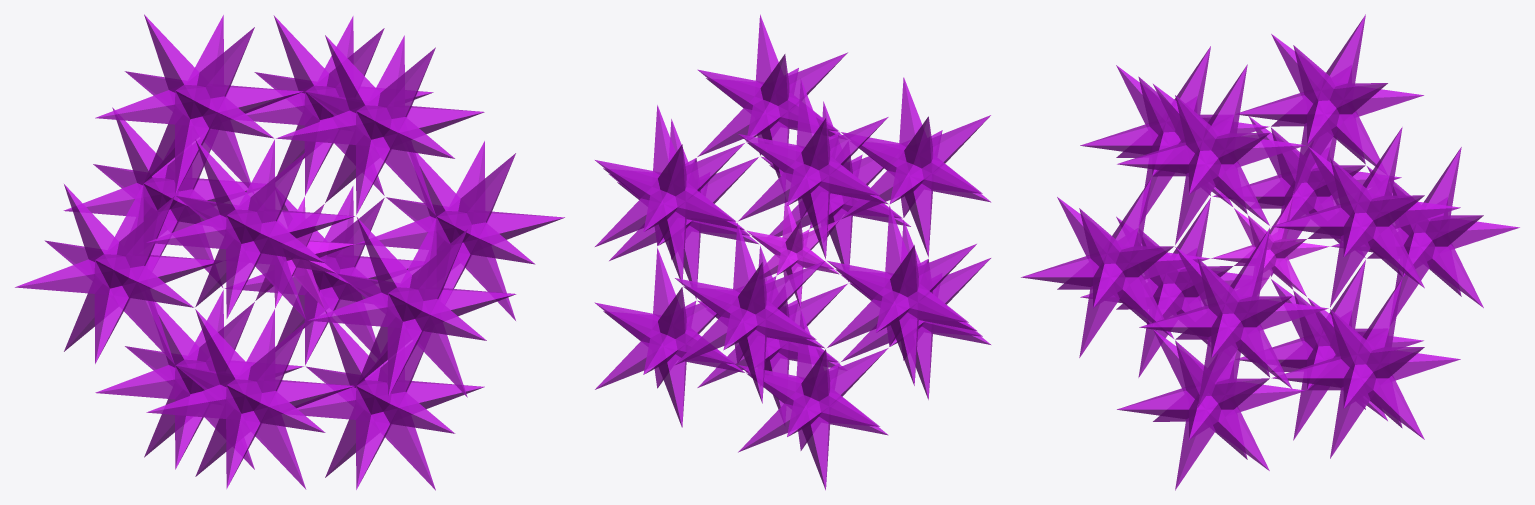
The model's file is fractalmedialtriambicicosahedron1.glb.
3 views of the same model, side by side, from view 1: azimuth 30°, elevation 25°; view 2: azimuth 150°, elevation 25°; view 3: azimuth 270°, elevation 25° (orthographic). The views are drawn at different scales.
Size of the model in its own units: 11.25 by 9.84 by 11.25.
